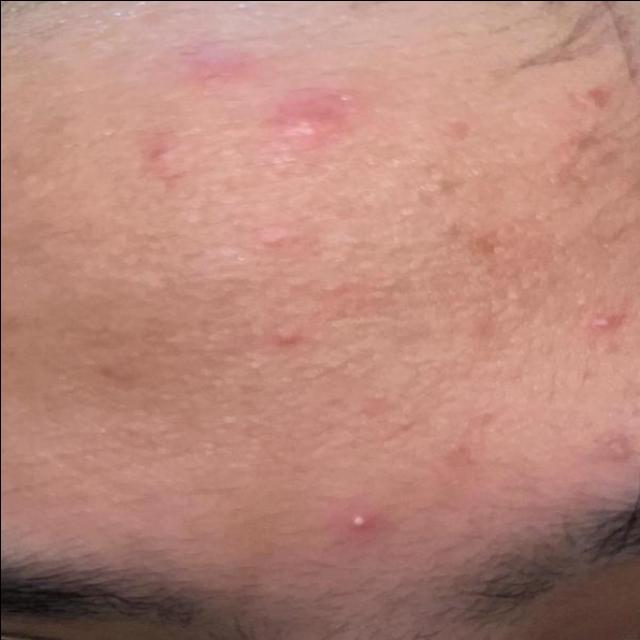papule: (116, 20, 396, 188)
pustule: (324, 499, 381, 558), (580, 306, 625, 345)
